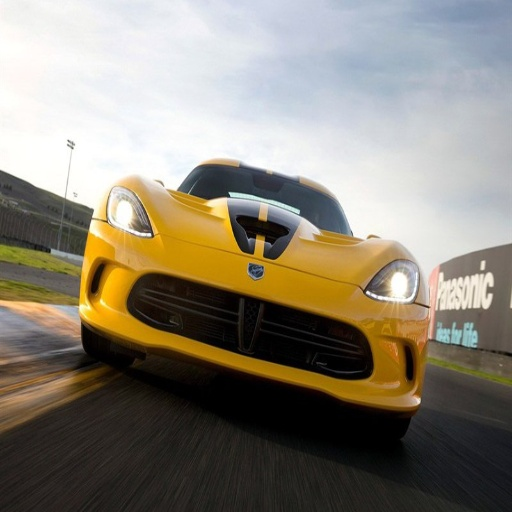back_bumper: (215, 264, 298, 312)
tailgate: (234, 209, 294, 257)
trunk: (141, 191, 385, 299)
